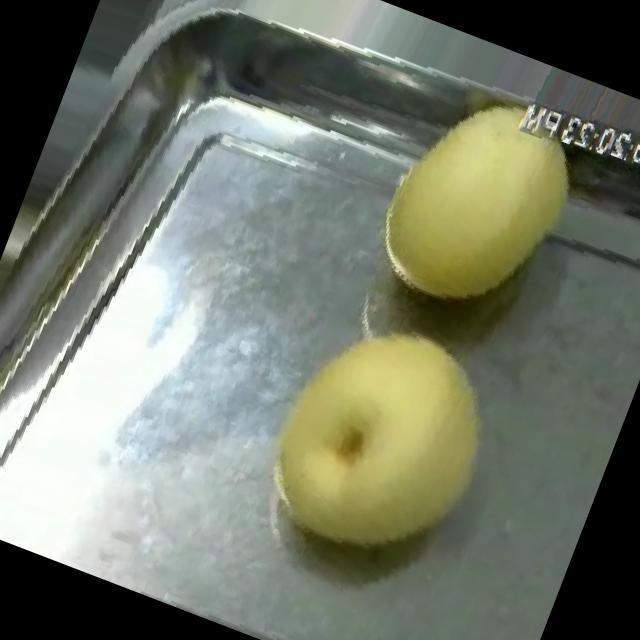Fruit: (221, 283, 535, 606), (347, 65, 610, 346)
